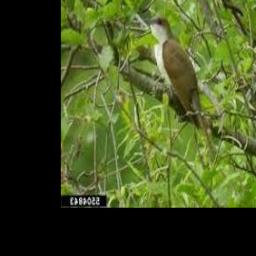Cuckoo: (148, 15, 214, 160)
